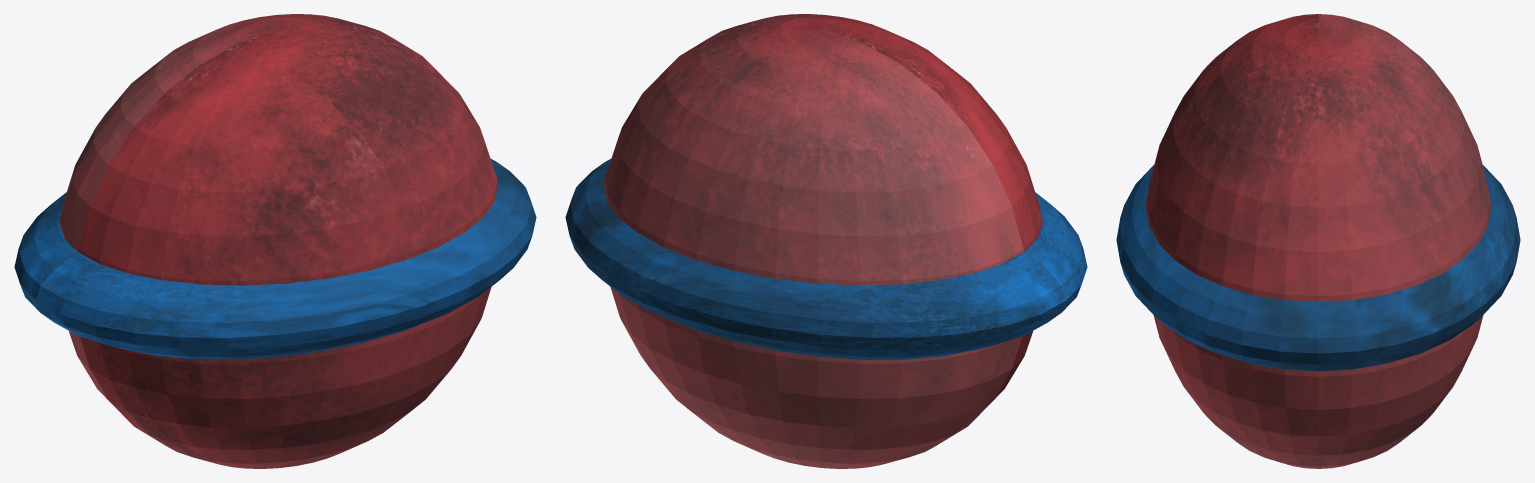
Rendered from tometoBullet.obj.
The picture shows the model from 3 angles, left to right: view 1: azimuth 30°, elevation 25°; view 2: azimuth 150°, elevation 25°; view 3: azimuth 270°, elevation 25°; orthographic projection. The views are drawn at different scales.
Parts seen in each view (by area): view 1: 球.001; view 2: 球.001; view 3: 球.001.
Boxes of the visible parts, box(x1,y1,x2,y2) form: 球.001: box(14, 14, 536, 468); 球.001: box(565, 14, 1087, 468); 球.001: box(1116, 14, 1520, 468).
Size of the model in its own units: 0.5928 by 0.5014 by 0.4455.
1 material, 1 textured.
